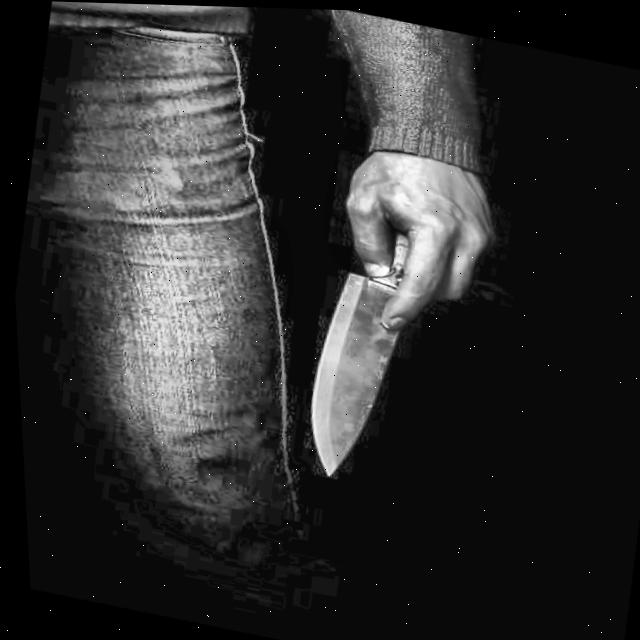pisau: (279, 175, 489, 510)
